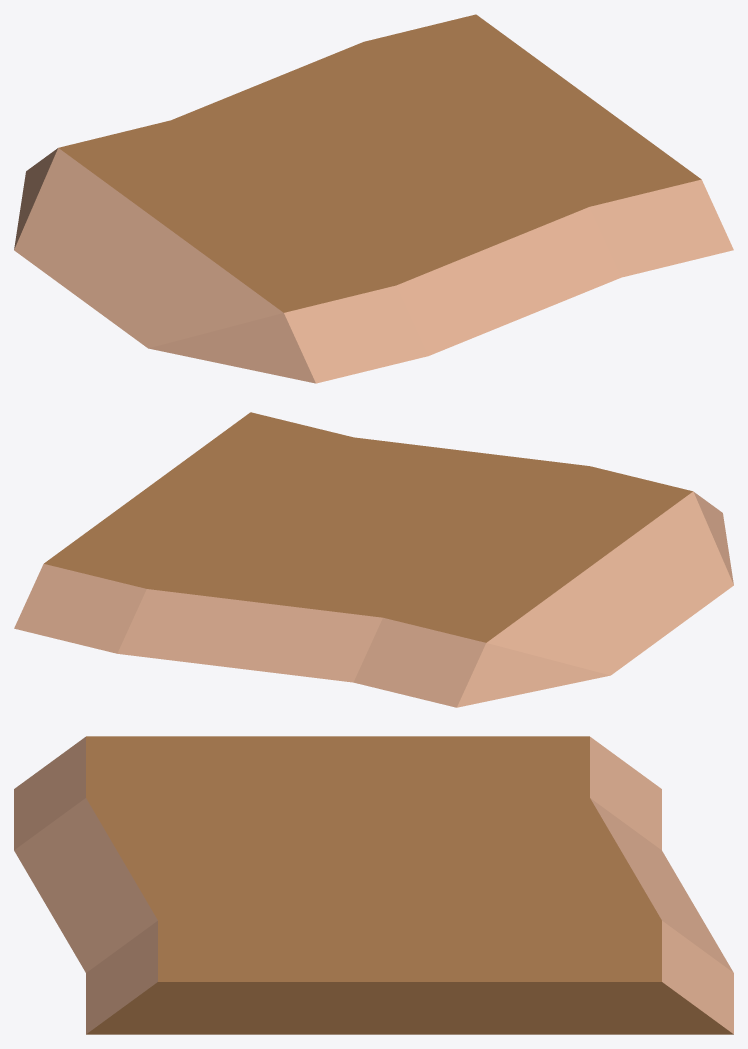
The model's file is crops_dirtRowEnd.glb.
The picture shows the model from 3 angles, top to bottom: view 1: azimuth 30°, elevation 25°; view 2: azimuth 150°, elevation 25°; view 3: azimuth 270°, elevation 25°; orthographic projection. The views are drawn at different scales.
Parts seen in each view (by area): view 1: crops_dirtRowEnd; view 2: crops_dirtRowEnd; view 3: crops_dirtRowEnd.
Boxes of the visible parts, bbox=[...] form: crops_dirtRowEnd: bbox=[14, 14, 733, 383]; crops_dirtRowEnd: bbox=[14, 412, 733, 707]; crops_dirtRowEnd: bbox=[14, 736, 733, 1034].
Size of the model in its own units: 0.6 by 0.05 by 0.62.
